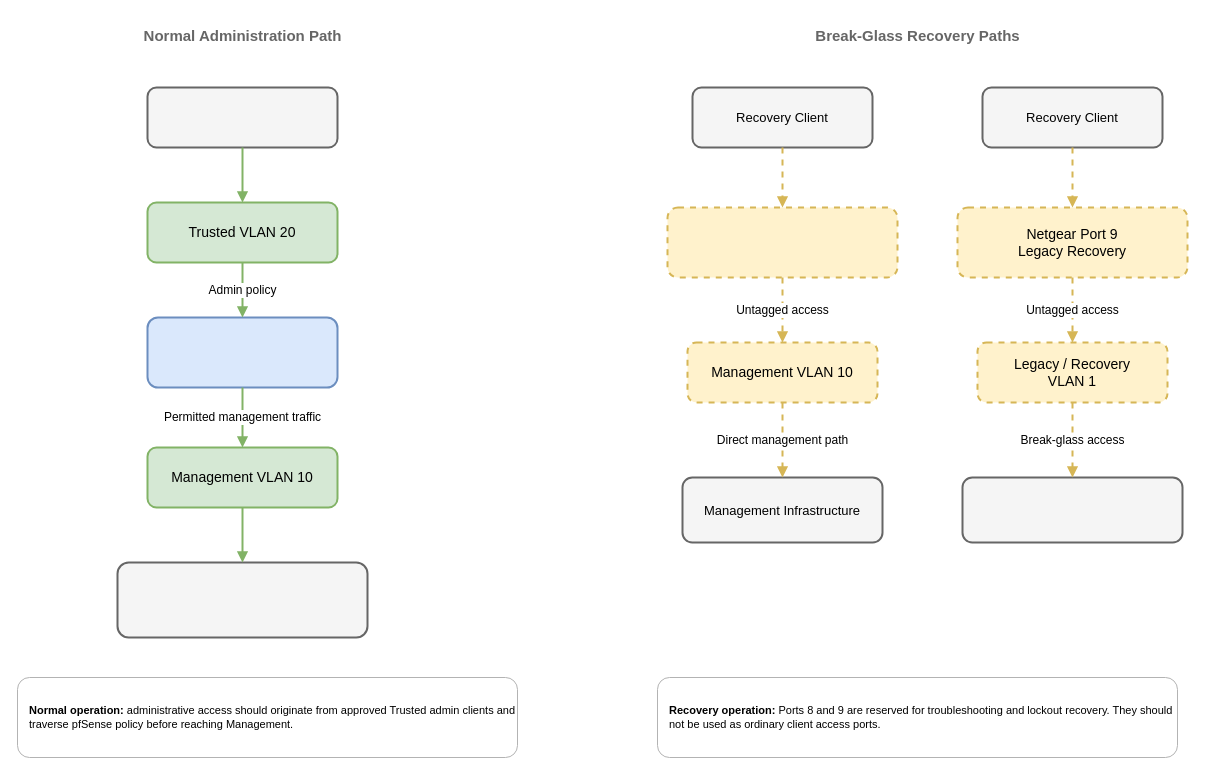
This 1206x775 diagram has some shape labels left out. Here are the shapes that lost their labels. From the top down, the centre of each, then its label:
(x=242, y=117): Administrative Client
(x=782, y=242): Netgear Port 8 Management Recovery
(x=242, y=352): pfSense Firewall Policy
(x=1072, y=509): pfSense / Recovery Targets
(x=242, y=599): Management Infrastructure Cloud Key / AP / Switch
